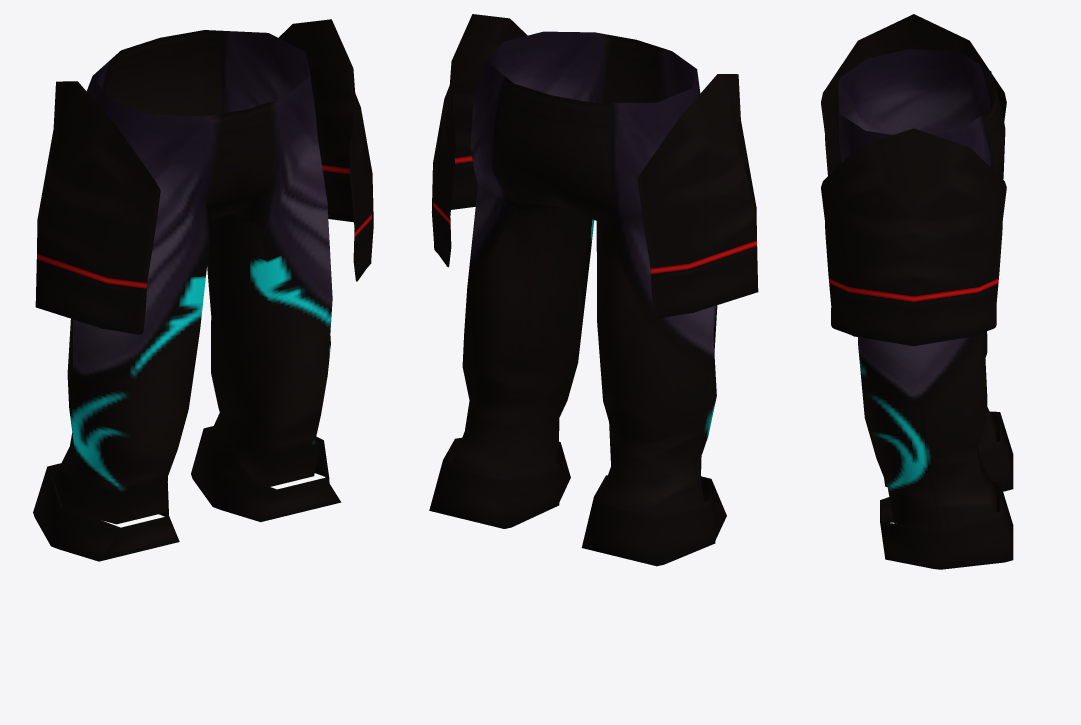
Rendered from hum_netherim_01_64cc5fa8.glb.
The picture shows the model from 3 angles, left to right: view 1: azimuth 30°, elevation 25°; view 2: azimuth 150°, elevation 25°; view 3: azimuth 270°, elevation 25°; orthographic projection. The views are drawn at different scales.
Size of the model in its own units: 0.766 by 1.31 by 0.5496.
Materials: 1 (1 with a texture image).
